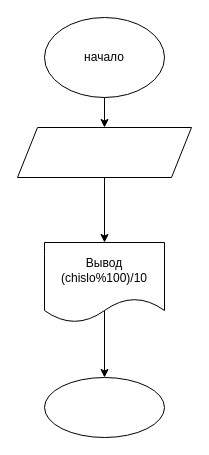
Image size: 209x455. Some labels were removed from this diagram. Here are the shapes that lost their labels. From the top down, the centre of each, then its label:
At point 104,152: "Ввод трехзначного числа".
At point 104,407: "конец".
